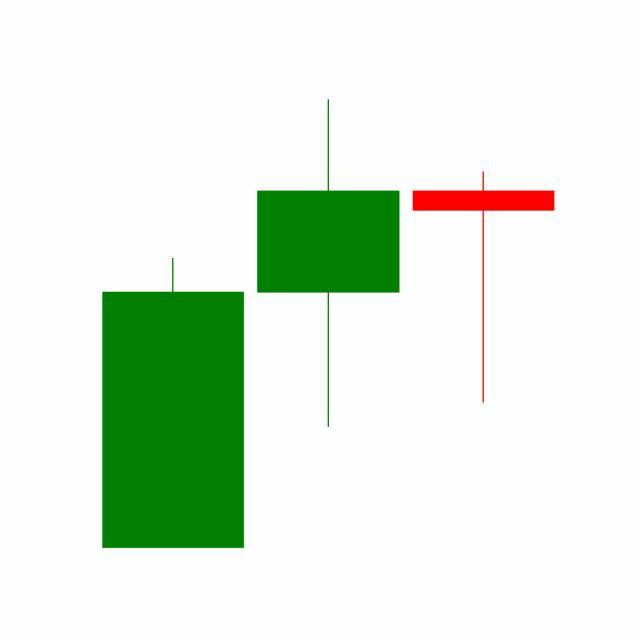Dragonfly Doji: (406, 169, 562, 406)
